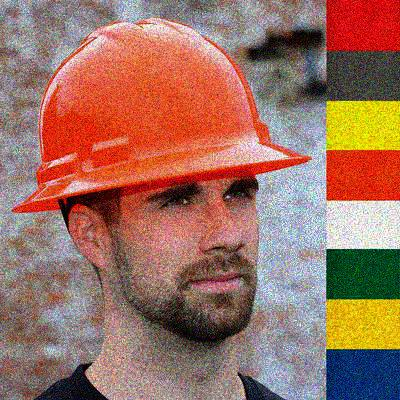helmet: (9, 17, 313, 335)
